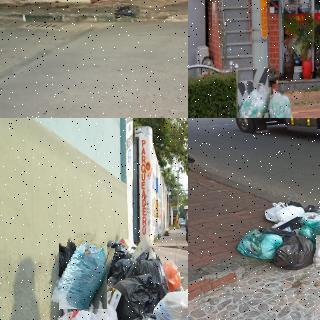Garbage: (55, 239, 111, 312), (115, 273, 162, 319), (275, 231, 316, 270), (235, 226, 282, 259), (234, 82, 268, 118), (155, 288, 188, 320), (265, 202, 304, 223), (269, 91, 295, 118), (46, 310, 111, 320), (301, 219, 320, 244), (113, 4, 139, 20), (188, 149, 197, 173)
